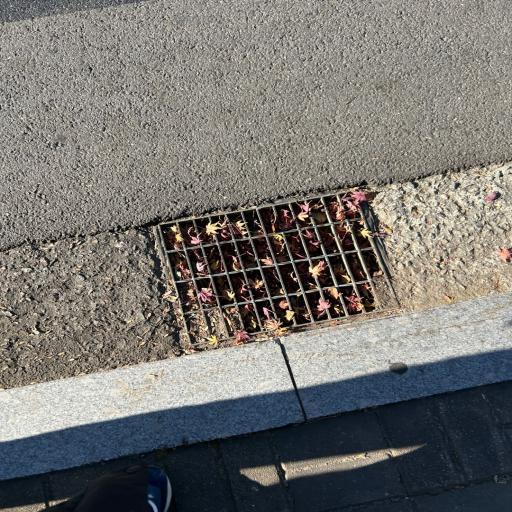debris: (343, 189, 367, 214), (282, 264, 300, 292), (263, 307, 283, 332), (173, 253, 191, 279), (182, 284, 199, 311), (242, 305, 259, 331), (358, 284, 375, 310), (241, 242, 258, 267), (266, 271, 283, 294), (334, 259, 350, 283), (300, 264, 316, 288), (290, 233, 305, 258), (279, 300, 296, 321), (336, 225, 352, 247), (194, 250, 208, 275), (273, 236, 287, 261), (351, 255, 365, 279), (305, 231, 320, 253), (166, 225, 180, 248), (210, 248, 223, 272), (314, 201, 328, 222), (348, 295, 364, 313), (227, 251, 241, 271), (220, 281, 234, 301), (235, 280, 251, 297), (296, 302, 310, 321), (299, 202, 312, 222), (232, 220, 248, 236), (311, 261, 327, 277), (187, 227, 202, 244), (329, 202, 343, 220), (324, 231, 336, 250), (318, 301, 332, 317), (206, 222, 221, 236), (200, 288, 215, 302), (284, 208, 294, 229), (220, 219, 231, 237), (269, 208, 277, 231), (325, 287, 338, 301), (253, 278, 264, 291), (261, 254, 274, 265), (360, 228, 370, 238)
drain: (156, 187, 405, 348)
